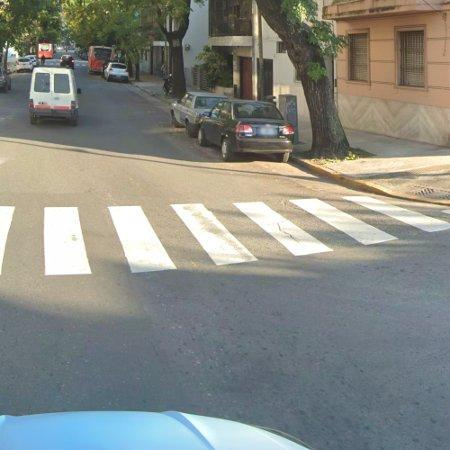crosswalks: (0, 194, 450, 279)
